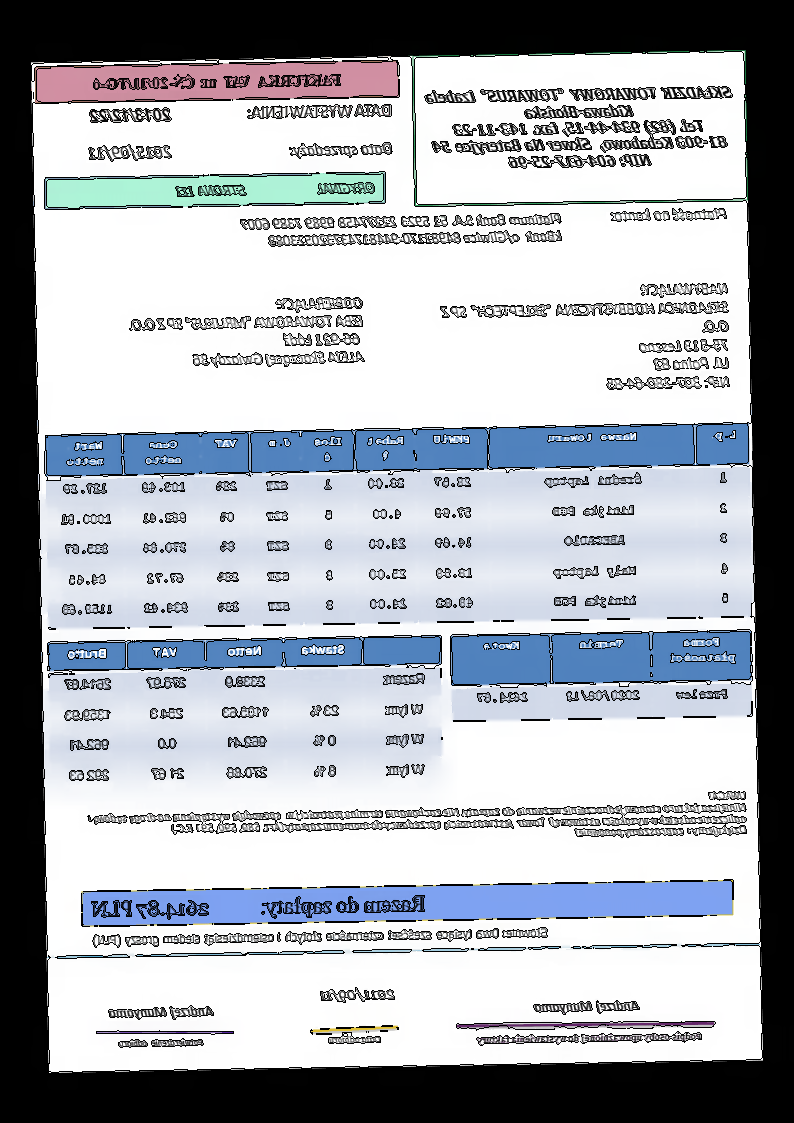Table: (44, 422, 754, 631), (46, 632, 446, 798), (449, 629, 754, 723)
TextBox: (82, 787, 749, 848), (436, 277, 733, 397), (420, 81, 736, 174), (127, 292, 367, 372), (91, 922, 550, 953), (238, 210, 565, 251), (90, 889, 428, 924), (91, 69, 346, 94), (173, 176, 378, 200), (475, 1029, 705, 1047), (248, 98, 396, 123), (287, 137, 395, 161), (610, 203, 730, 224), (529, 997, 644, 1016), (86, 140, 175, 164), (107, 1003, 216, 1022), (87, 104, 174, 126), (318, 984, 399, 1004), (118, 1035, 207, 1050), (326, 1031, 385, 1048)
